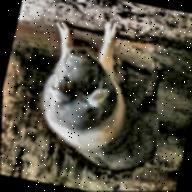boar: (23, 13, 183, 181)
